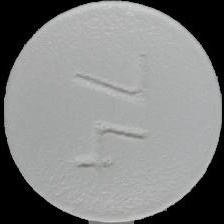0615-8047: (0, 0, 224, 224)
